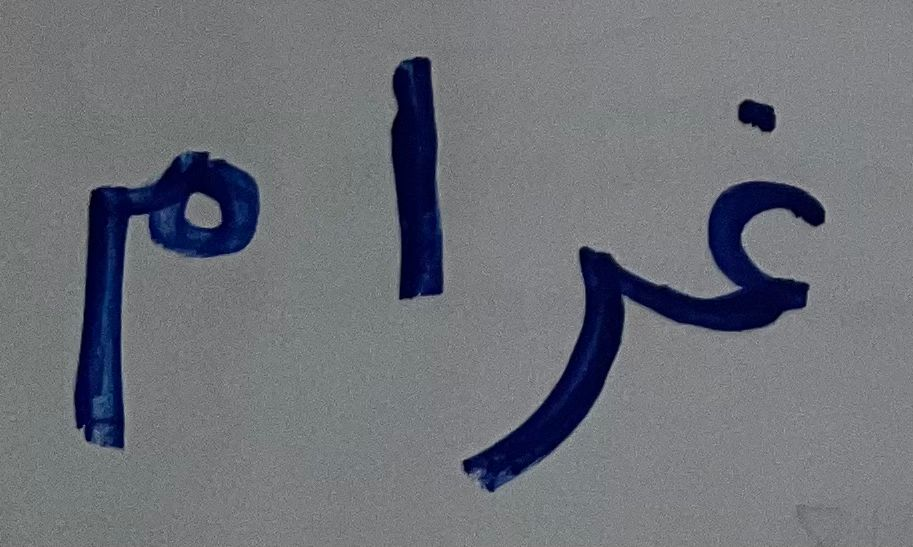ghain: (645, 79, 841, 358)
hamza: (371, 34, 456, 311)
meem: (43, 120, 276, 466)
reh: (462, 206, 640, 498)
